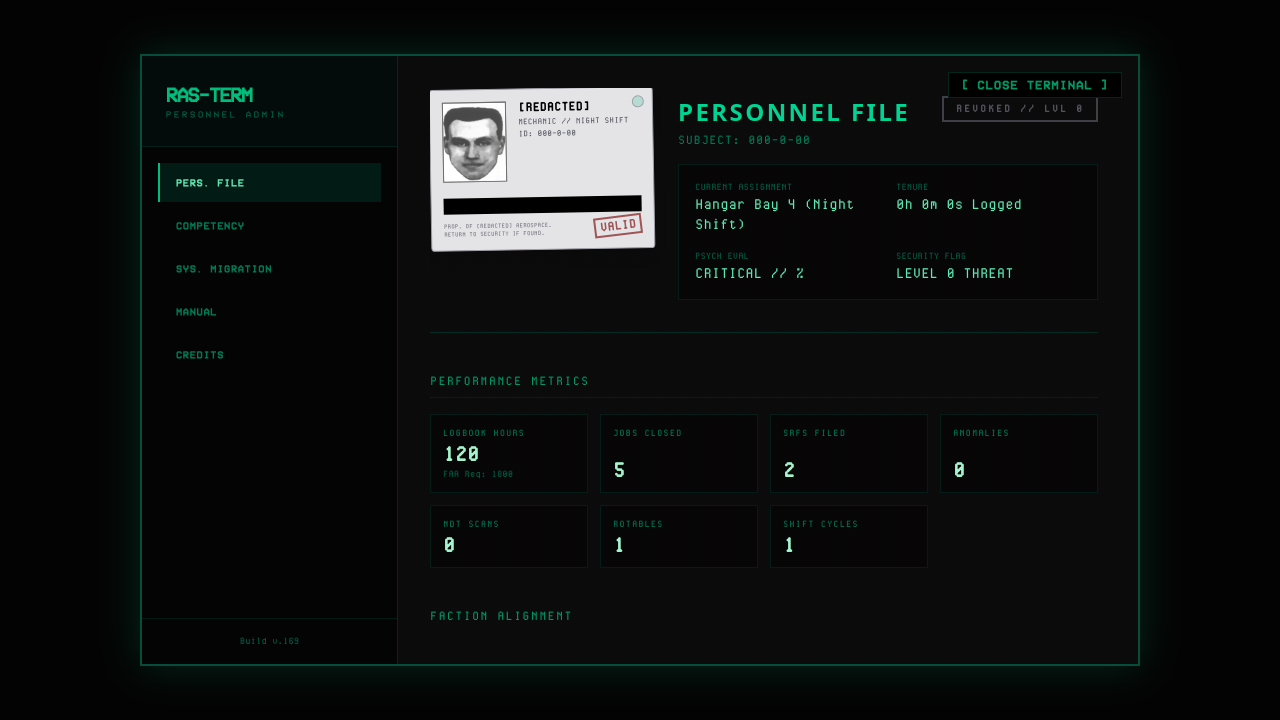
Test: AboutModal › navigates to Import/Export
Click the button "SYS. MIGRATION" at point(270, 268), box [158,248,381,288]
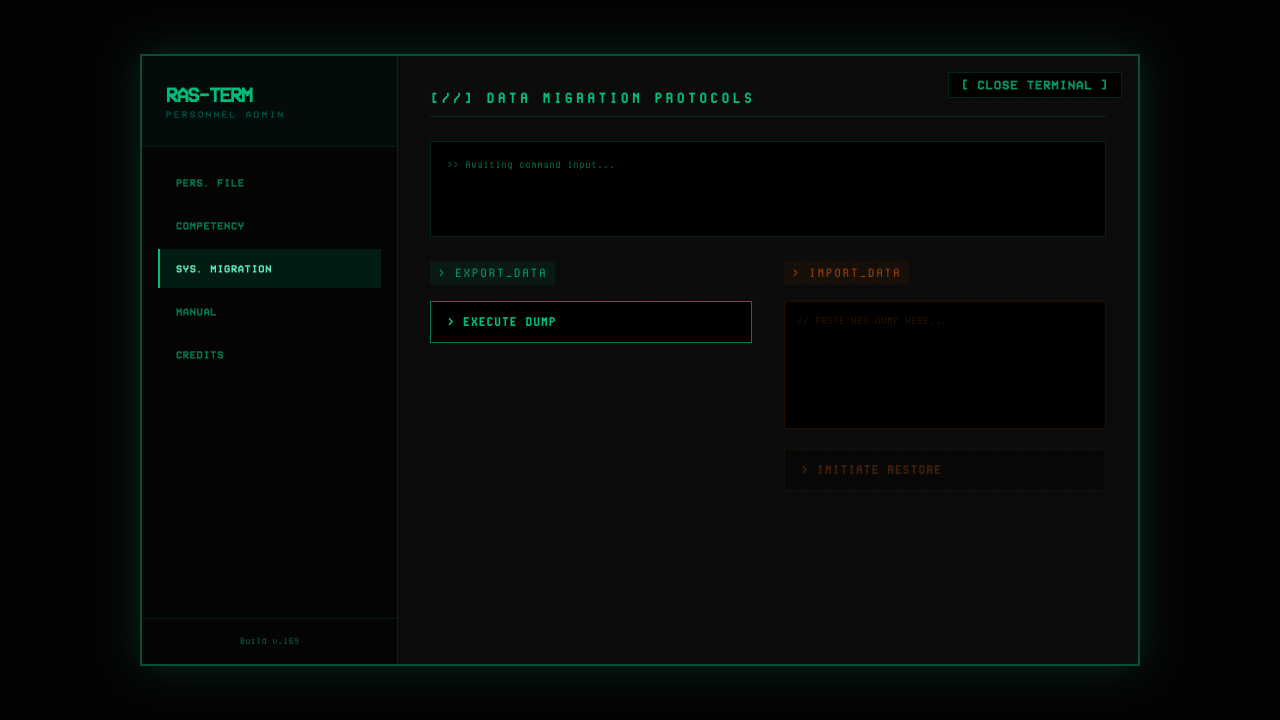
Expected: the heading "[//] DATA MIGRATION PROTOCOLS" is shown, [430,89,755,107]
